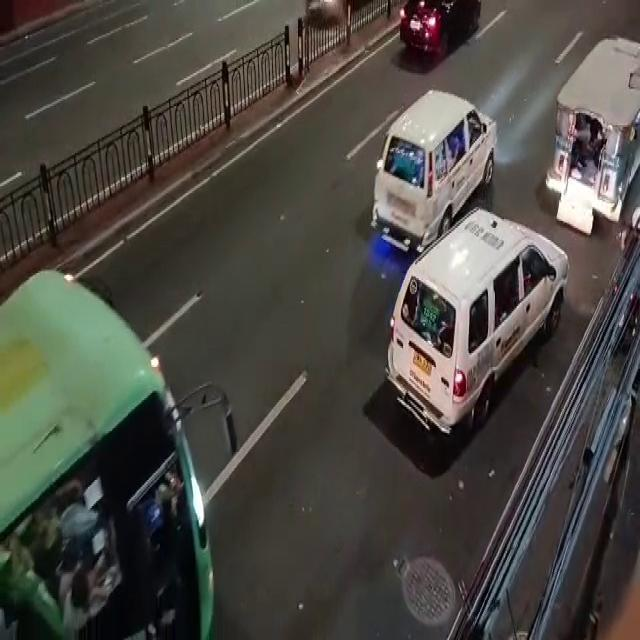bus: (0, 245, 251, 638)
car: (397, 220, 558, 441), (372, 99, 495, 240)
jeepney: (547, 37, 640, 229)
